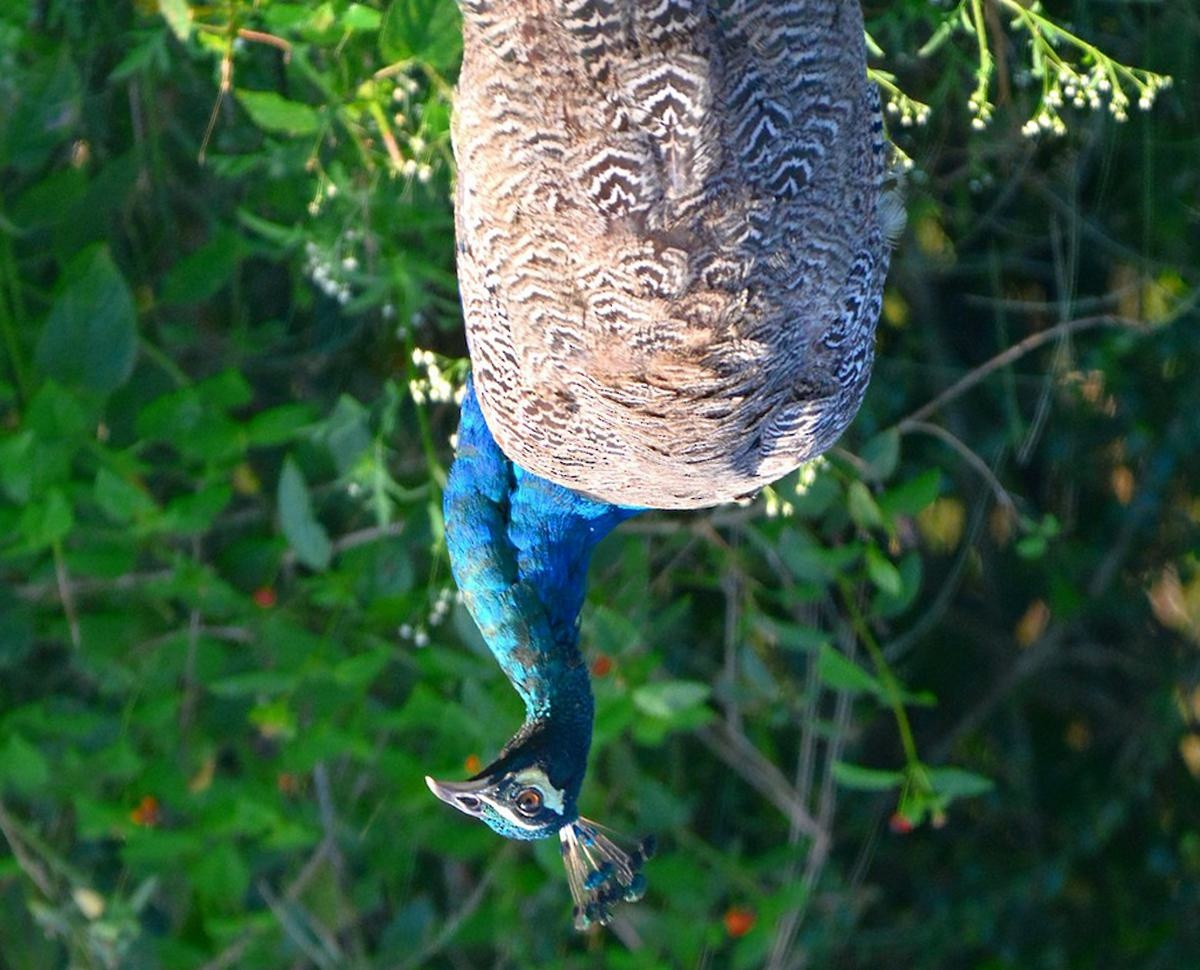peacock: (441, 1, 897, 916)
